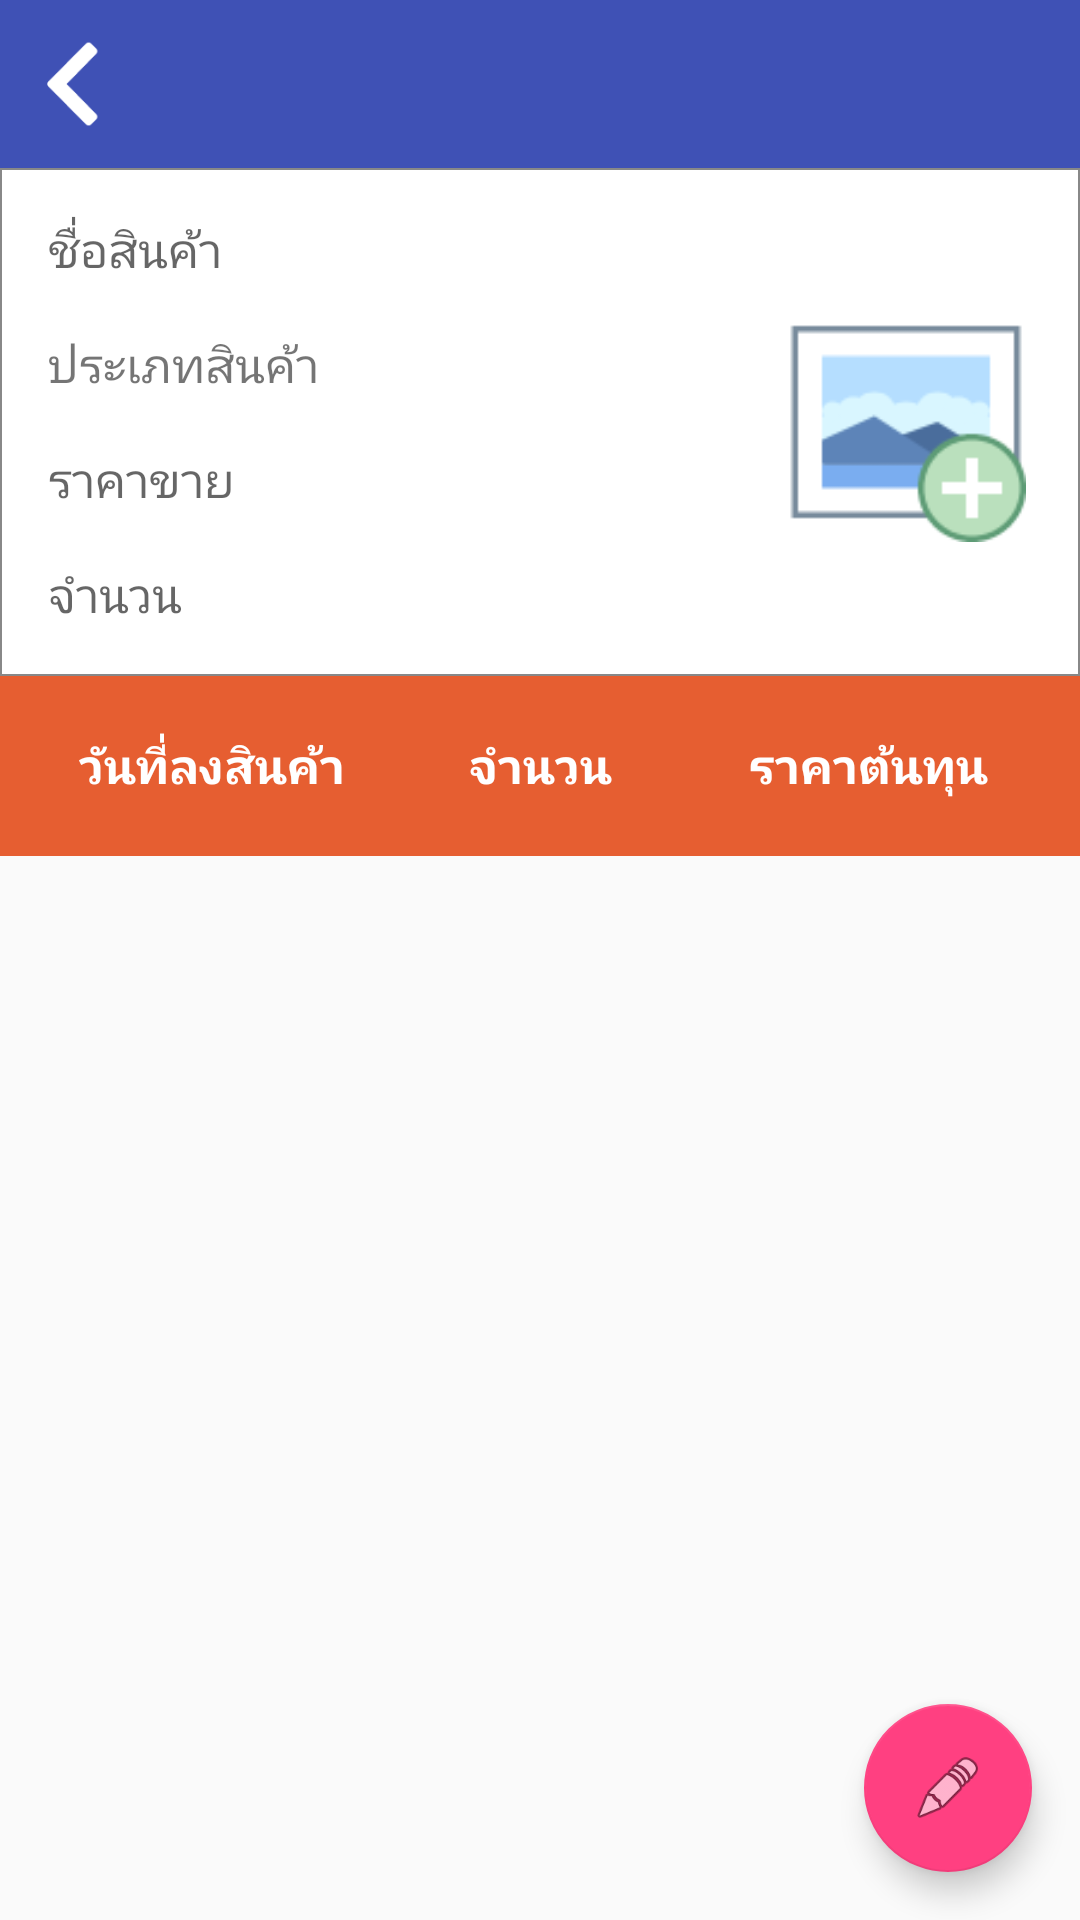

Named icons in this screenshot (1080px×1920px) and their bounding boxes, box(x1, y1, x2, y2):
back: box(47, 42, 98, 126)
edit: box(864, 1704, 1032, 1872)
